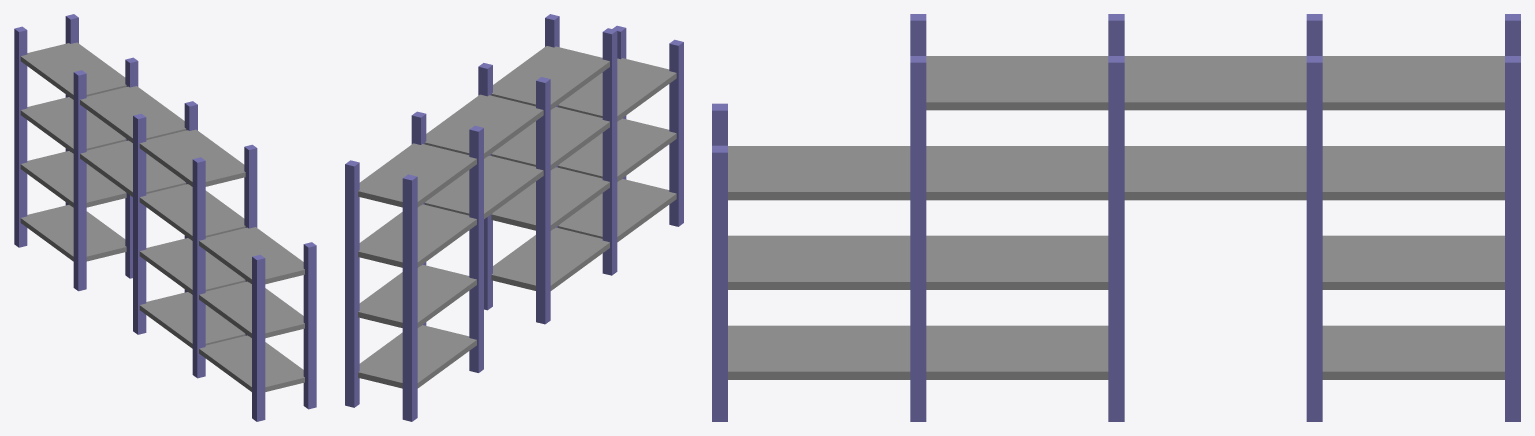
The model's file is shelves-3.glb.
3 renders of one model, left to right at view 1: azimuth 30°, elevation 25°; view 2: azimuth 150°, elevation 25°; view 3: azimuth 270°, elevation 25°, orthographic. The views are drawn at different scales.
Parts seen in each view (by area): view 1: shelf-1; view 2: shelf-1; view 3: shelf-1.
Part boxes in pixels (box(x1,y1,x2,y2)): shelf-1: box(14, 14, 316, 421); shelf-1: box(345, 14, 683, 421); shelf-1: box(712, 14, 1520, 421).
Size of the model in its own units: 4.65 by 16 by 32.65.
